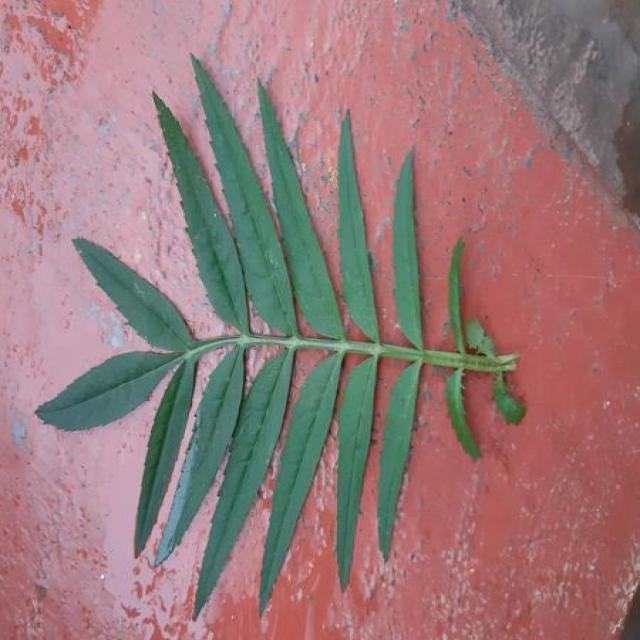marigold: (37, 59, 525, 612)
